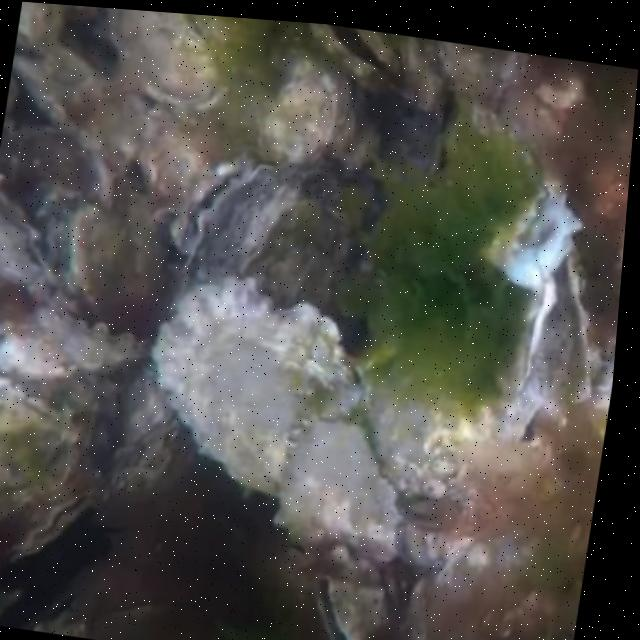Oyster-Closed: (0, 380, 81, 509), (8, 465, 107, 565), (170, 163, 252, 256), (0, 177, 51, 293), (304, 571, 388, 640)
Oyster-Indeterminate: (164, 275, 403, 558), (14, 37, 144, 167), (66, 205, 161, 338), (104, 9, 224, 112), (256, 61, 337, 177), (128, 105, 204, 213), (421, 540, 494, 640), (432, 41, 514, 106), (18, 2, 70, 49)
Oyster-Open: (518, 249, 590, 408), (480, 184, 576, 293), (305, 23, 397, 96)
